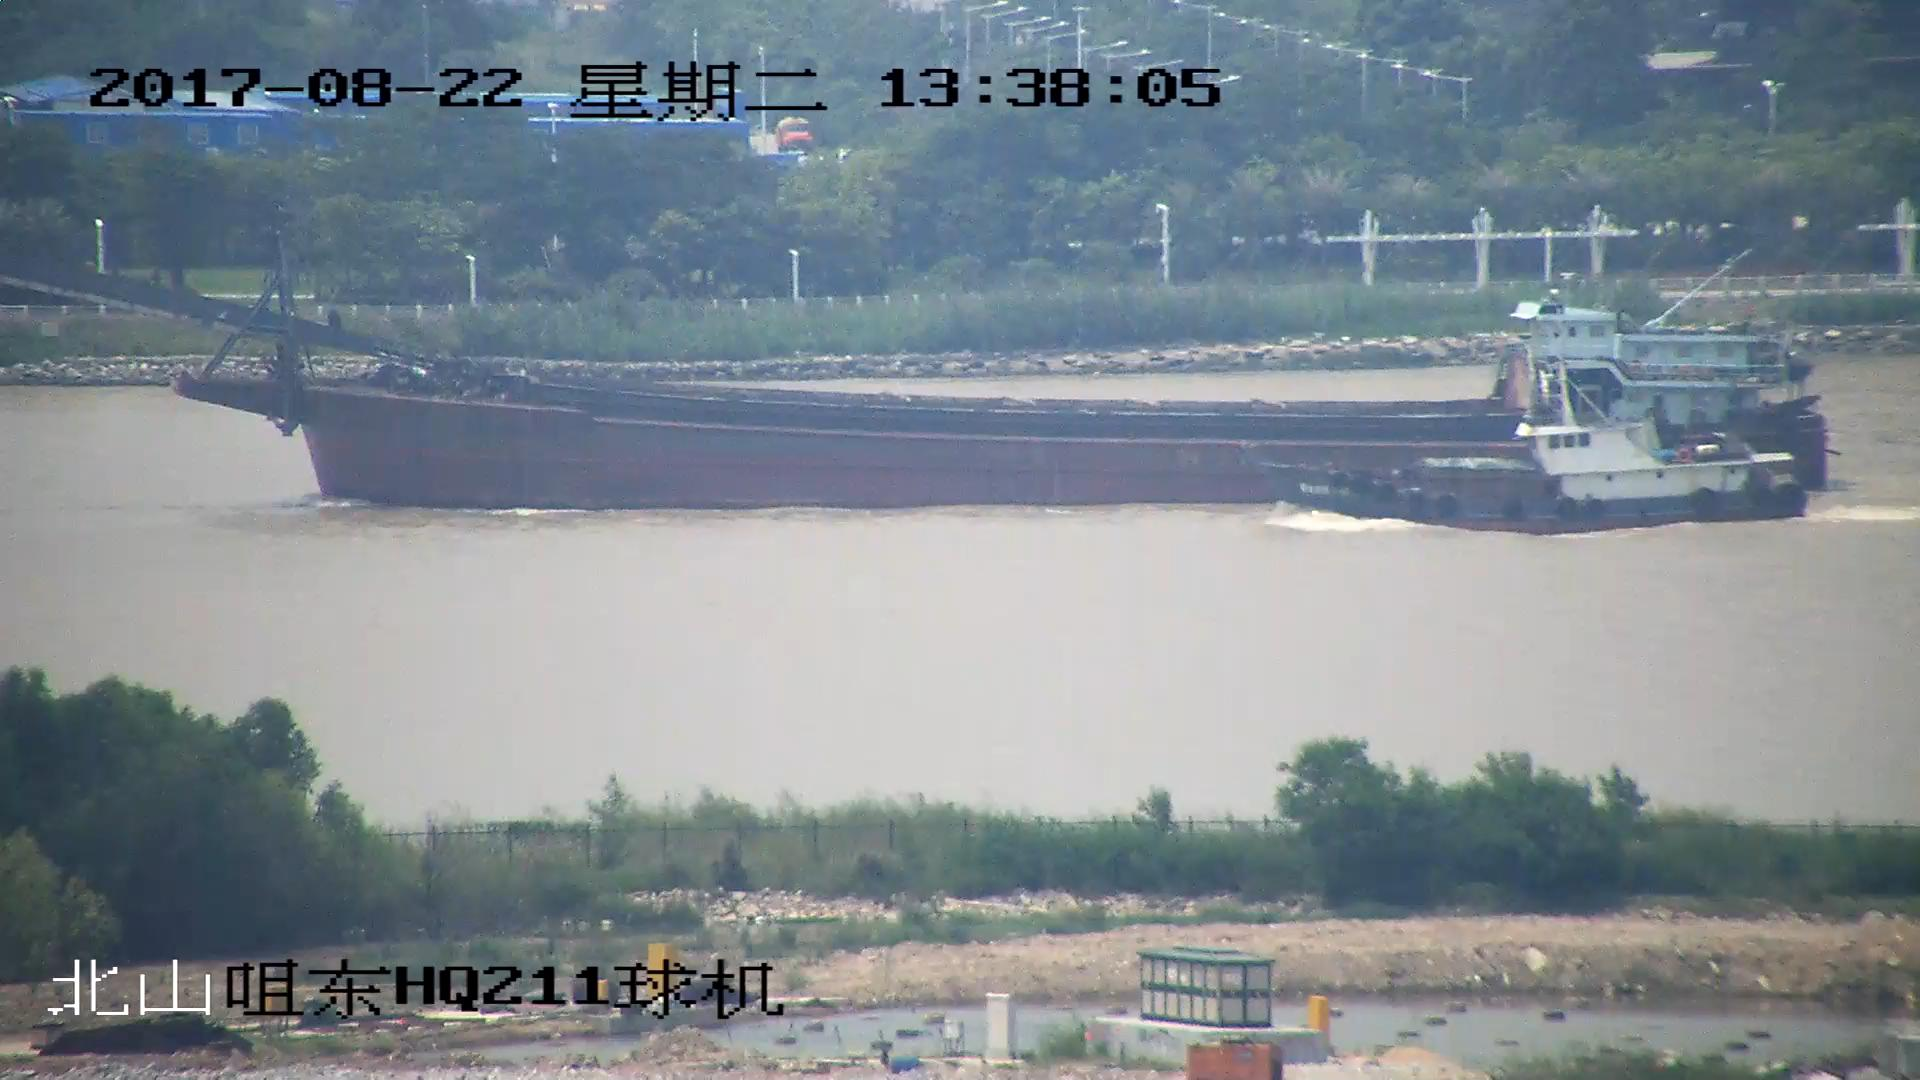bulk cargo carrier: (1, 235, 1835, 507)
passenger ship: (1280, 369, 1810, 539)
